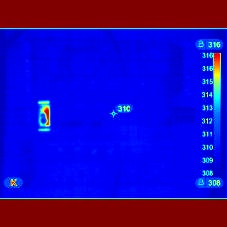Less: (40, 115, 46, 126)
